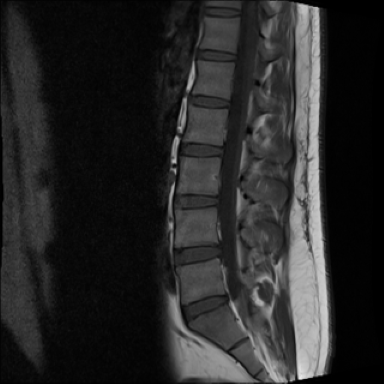Normal IVD: (178, 287, 230, 329), (169, 243, 225, 269), (169, 189, 221, 212), (175, 137, 226, 160), (185, 91, 233, 112), (192, 44, 239, 64), (197, 2, 244, 21)
